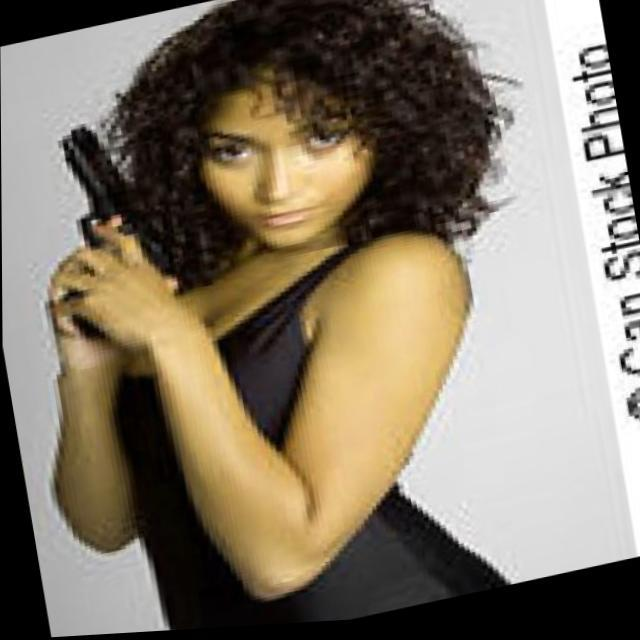weapon: (20, 100, 207, 362)
